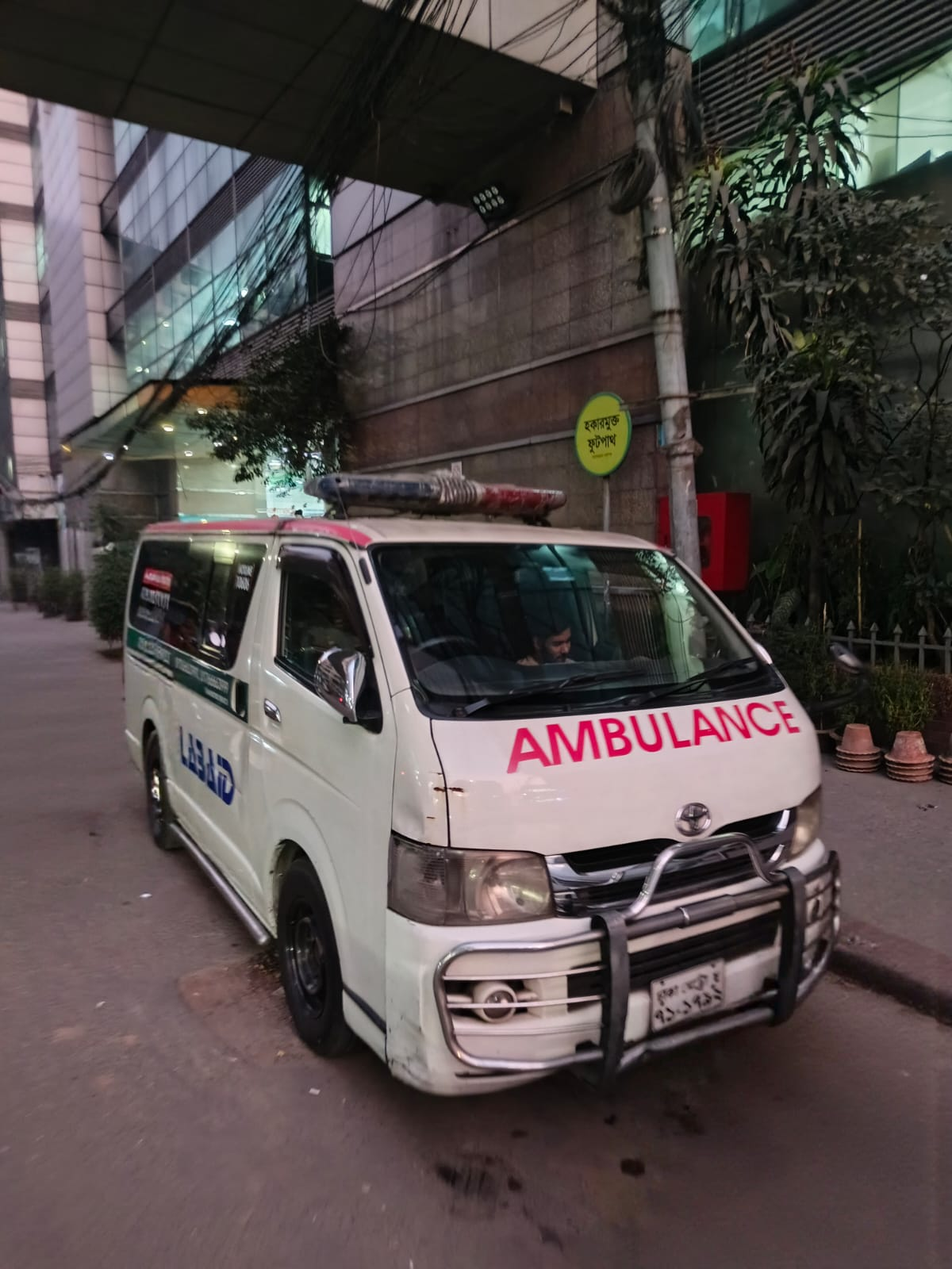Ambulance: (111, 461, 862, 1107)
